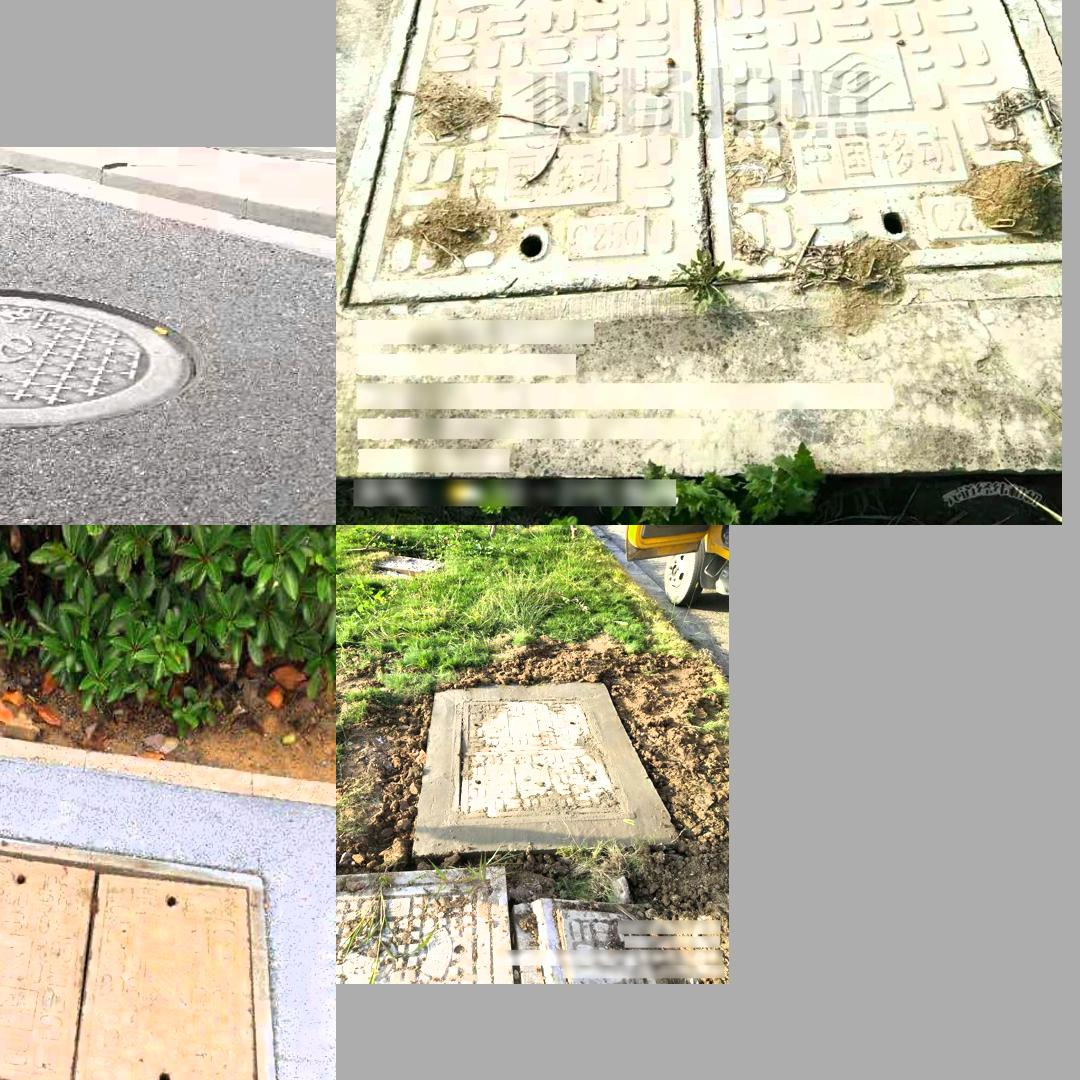good: (338, 0, 1062, 325), (0, 825, 281, 1080), (0, 276, 220, 444), (449, 698, 635, 825), (336, 865, 521, 984)
